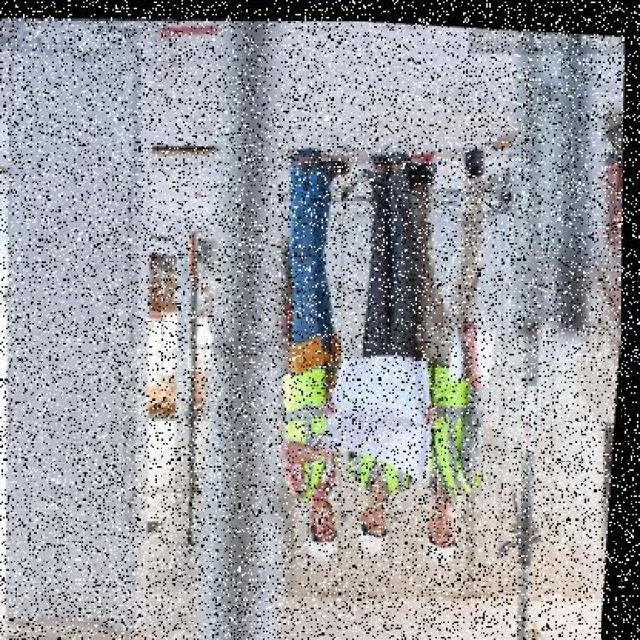helmet: (355, 505, 397, 555), (428, 511, 468, 562), (308, 514, 346, 560)
vest: (414, 331, 498, 497), (271, 331, 357, 491)
